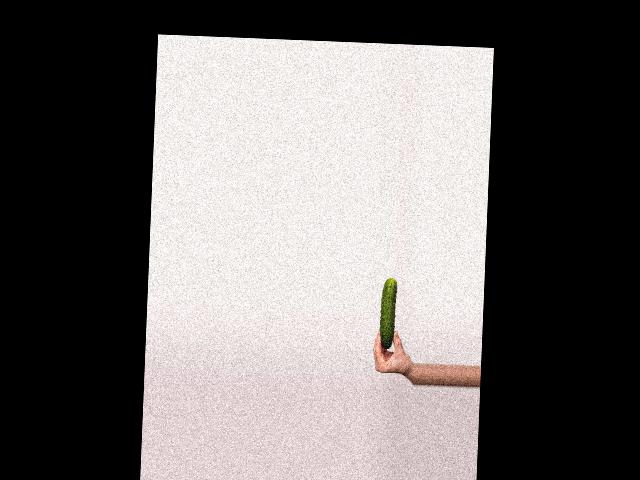cucumber: (379, 278, 396, 349)
